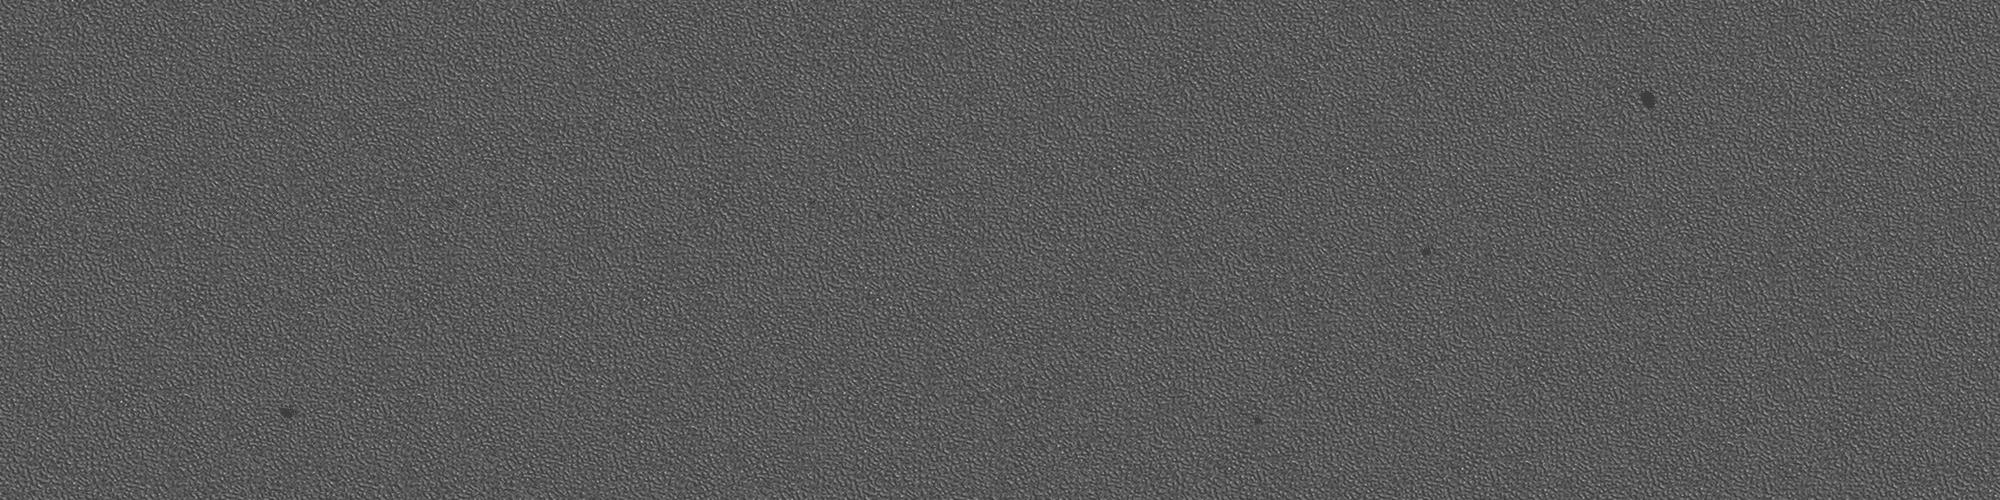Decomposed: (1636, 87, 1661, 114), (276, 401, 293, 425), (1418, 240, 1435, 264), (1253, 413, 1264, 427)
